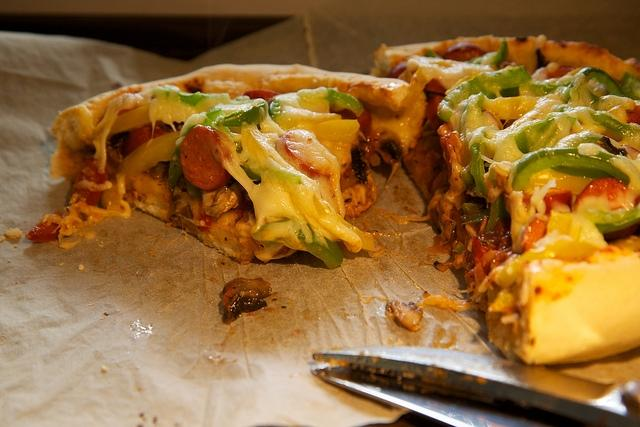bell pepper: (436, 66, 533, 126), (512, 147, 630, 192), (169, 108, 227, 194), (258, 219, 344, 269), (514, 112, 576, 154), (589, 203, 640, 234), (464, 37, 508, 67), (591, 113, 640, 138), (325, 87, 365, 116), (216, 103, 266, 126), (470, 142, 488, 197), (552, 130, 604, 148), (166, 91, 208, 107), (622, 72, 640, 100), (586, 86, 606, 106)
